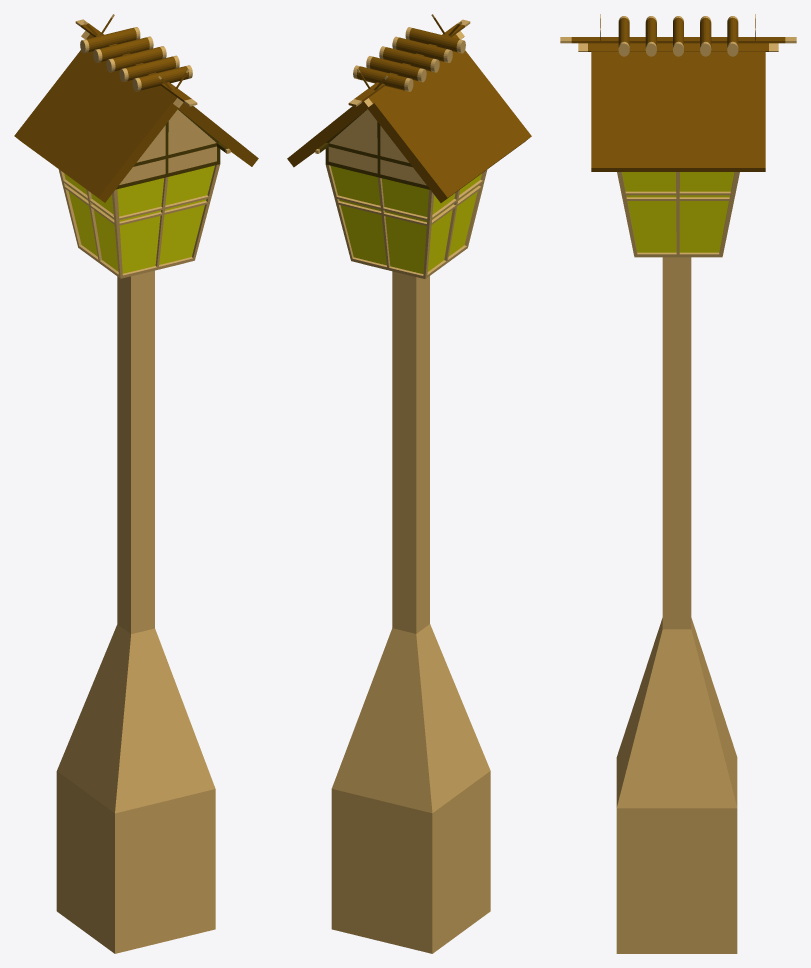
The model's file is ParkLamp.fbx.
3 views of the same model, side by side, from view 1: azimuth 30°, elevation 25°; view 2: azimuth 150°, elevation 25°; view 3: azimuth 270°, elevation 25° (orthographic). The views are drawn at different scales.
Visible parts, largest first — view 1: ParkLamp2; view 2: ParkLamp2; view 3: ParkLamp2.
Boxes of the visible parts, left/top/right/bottom form: ParkLamp2: left=14, top=14, right=258, bottom=953; ParkLamp2: left=287, top=14, right=531, bottom=953; ParkLamp2: left=560, top=14, right=796, bottom=953.
Bounding box in the file's own units: 16.62 × 86.53 × 20.43.
